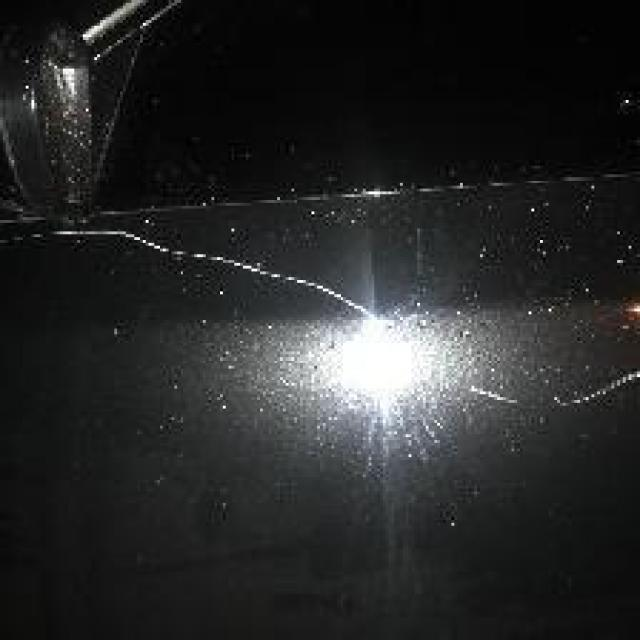damaged: (12, 226, 638, 417)
